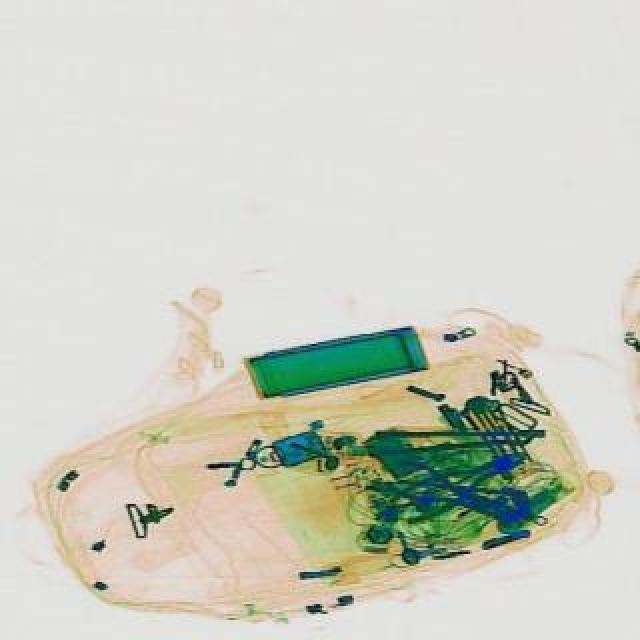wrench: (388, 434, 536, 530), (380, 450, 526, 534)
